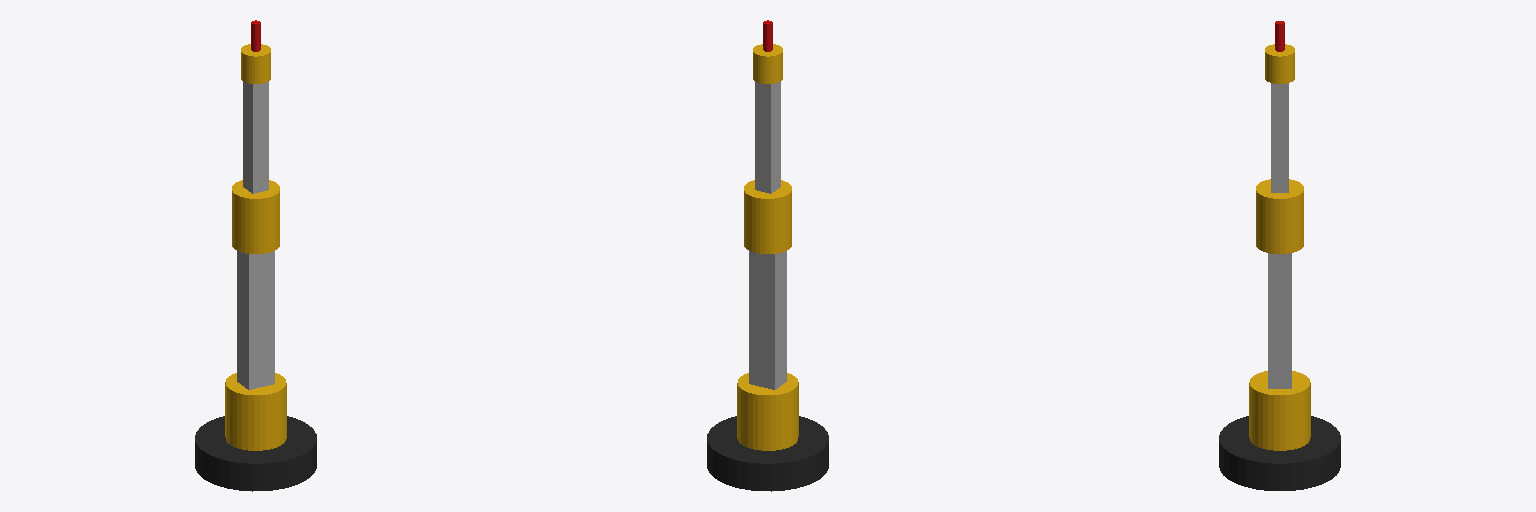
robot.urdf — robot_impression_6axes:
<?xml version="1.0"?>
<robot name="robot_impression_6axes">

  <material name="gris_fonce"><color rgba="0.2 0.2 0.2 1"/></material>
  <material name="gris_clair"><color rgba="0.7 0.7 0.7 1"/></material>
  <material name="jaune"><color rgba="0.9 0.7 0.1 1"/></material>
  <material name="rouge"><color rgba="0.8 0.1 0.1 1"/></material>

  <link name="base_link">
    <visual>
      <geometry><cylinder length="0.1" radius="0.2"/></geometry>
      <material name="gris_fonce"/>
    </visual>
  </link>

  <joint name="joint_1" type="revolute">
    <parent link="base_link"/>
    <child link="link_1"/>
    <origin xyz="0 0 0.05" rpy="0 0 0"/>
    <axis xyz="0 0 1"/>
    <limit effort="150" lower="-3.14" upper="3.14" velocity="1.5"/>
  </joint>

  <link name="link_1">
    <visual>
      <origin xyz="0 0 0.1" rpy="0 0 0"/>
      <geometry><cylinder length="0.2" radius="0.1"/></geometry>
      <material name="jaune"/>
    </visual>
  </link>

  <joint name="joint_2" type="revolute">
    <parent link="link_1"/>
    <child link="link_2"/>
    <origin xyz="0 0 0.2" rpy="0 0 0"/>
    <axis xyz="0 1 0"/>
    <limit effort="150" lower="-1.57" upper="1.57" velocity="1.5"/>
  </joint>

  <link name="link_2">
    <visual>
      <origin xyz="0 0 0.25" rpy="0 0 0"/>
      <geometry><box size="0.1 0.08 0.5"/></geometry>
      <material name="gris_clair"/>
    </visual>
  </link>

  <joint name="joint_3" type="revolute">
    <parent link="link_2"/>
    <child link="link_3"/>
    <origin xyz="0 0 0.5" rpy="0 0 0"/>
    <axis xyz="0 1 0"/>
    <limit effort="150" lower="-2.0" upper="2.0" velocity="1.5"/>
  </joint>

  <link name="link_3">
    <visual>
      <origin xyz="0 0 0.1" rpy="0 0 0"/>
      <geometry><cylinder length="0.2" radius="0.08"/> </geometry>
      <material name="jaune"/>
    </visual>
  </link>

  <joint name="joint_4" type="revolute">
    <parent link="link_3"/>
    <child link="link_4"/>
    <origin xyz="0 0 0.2" rpy="0 0 0"/>
    <axis xyz="0 1 0"/>
    <limit effort="100" lower="-3.14" upper="3.14" velocity="2.0"/>
  </joint>

  <link name="link_4">
    <visual>
      <origin xyz="0 0 0.2" rpy="0 0 0"/>
      <geometry><box size="0.06 0.06 0.4"/></geometry>
      <material name="gris_clair"/>
    </visual>
  </link>

  <joint name="joint_5" type="revolute">
    <parent link="link_4"/>
    <child link="link_5"/>
    <origin xyz="0 0 0.4" rpy="0 0 0"/>
    <axis xyz="0 1 0"/>
    <limit effort="100" lower="-1.8" upper="1.8" velocity="2.0"/>
  </joint>

  <link name="link_5">
    <visual>
      <origin xyz="0 0 0.05" rpy="0 0 0"/>
      <geometry><cylinder length="0.1" radius="0.05"/></geometry>
      <material name="jaune"/>
    </visual>
  </link>

  <joint name="joint_6" type="revolute">
    <parent link="link_5"/>
    <child link="buse_impression"/>
    <origin xyz="0 0 0.1" rpy="0 0 0"/>
    <axis xyz="0 0 1"/>
    <limit effort="50" lower="-3.14" upper="3.14" velocity="2.5"/>
  </joint>

  <link name="buse_impression">
    <visual>
      <origin xyz="0 0 0.05" rpy="0 0 0"/>
      <geometry><cylinder length="0.1" radius="0.015"/></geometry>
      <material name="rouge"/>
    </visual>
  </link>

</robot>

--- What the picture shows (computed from the rendered views, not written in the file) ---
The picture shows the robot from 3 angles, left to right: view 1: azimuth 30°, elevation 25°; view 2: azimuth 150°, elevation 25°; view 3: azimuth 270°, elevation 25°; orthographic projection.
Robot: robot_impression_6axes — 7 links, 6 joints (6 revolute); root link base_link; default pose: all joints at 0.
Links seen in each view (by area): view 1: base_link, link_2, link_1, link_3, link_4, link_5; view 2: base_link, link_2, link_1, link_3, link_4, link_5; view 3: base_link, link_1, link_2, link_3, link_4, link_5.
Boxes of the visible links, left/top/right/bottom form: base_link: left=195, top=416, right=316, bottom=491; link_2: left=237, top=251, right=274, bottom=389; link_1: left=225, top=373, right=286, bottom=450; link_3: left=232, top=180, right=279, bottom=253; link_4: left=243, top=81, right=268, bottom=193; link_5: left=241, top=44, right=270, bottom=83; base_link: left=707, top=416, right=828, bottom=491; link_2: left=749, top=251, right=786, bottom=389; link_1: left=737, top=373, right=798, bottom=450; link_3: left=744, top=180, right=791, bottom=253; link_4: left=755, top=81, right=780, bottom=193; link_5: left=753, top=44, right=782, bottom=83; base_link: left=1219, top=416, right=1340, bottom=490; link_1: left=1249, top=371, right=1310, bottom=450; link_2: left=1268, top=253, right=1291, bottom=388; link_3: left=1256, top=179, right=1303, bottom=253; link_4: left=1271, top=83, right=1288, bottom=192; link_5: left=1265, top=44, right=1294, bottom=83.
Bounding box of the posed robot: 0.4 × 0.4 × 1.6 m (x, y, z).
Geometry: primitives only (box / cylinder / sphere), no mesh files.
